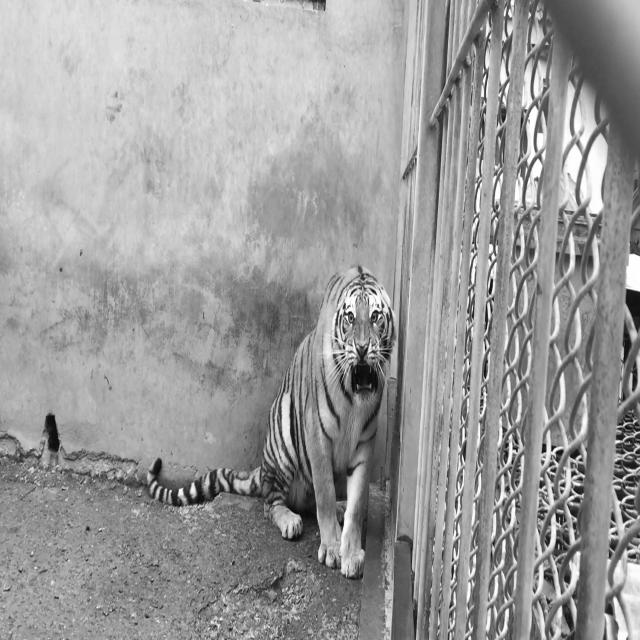Tiger: (146, 263, 397, 580)
